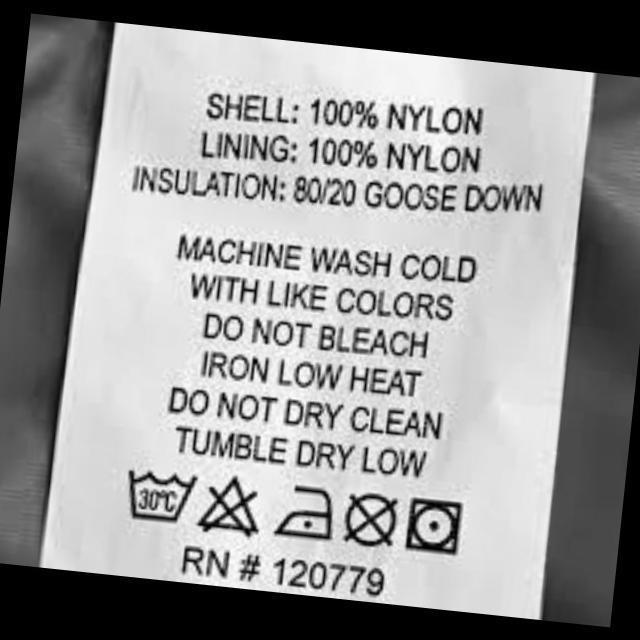30C: (121, 462, 199, 528)
DN_bleach: (192, 468, 266, 540)
DN_dry_clean: (338, 488, 402, 554)
iron_low: (272, 478, 338, 545)
tumble_dry_low: (402, 492, 466, 560)
